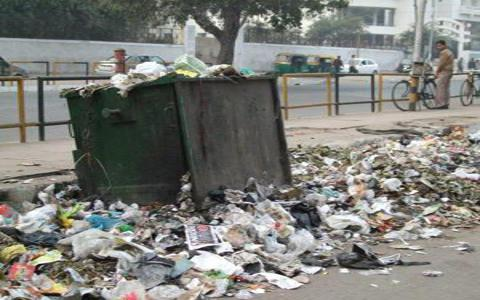overflowing garbage: (57, 64, 325, 284)
